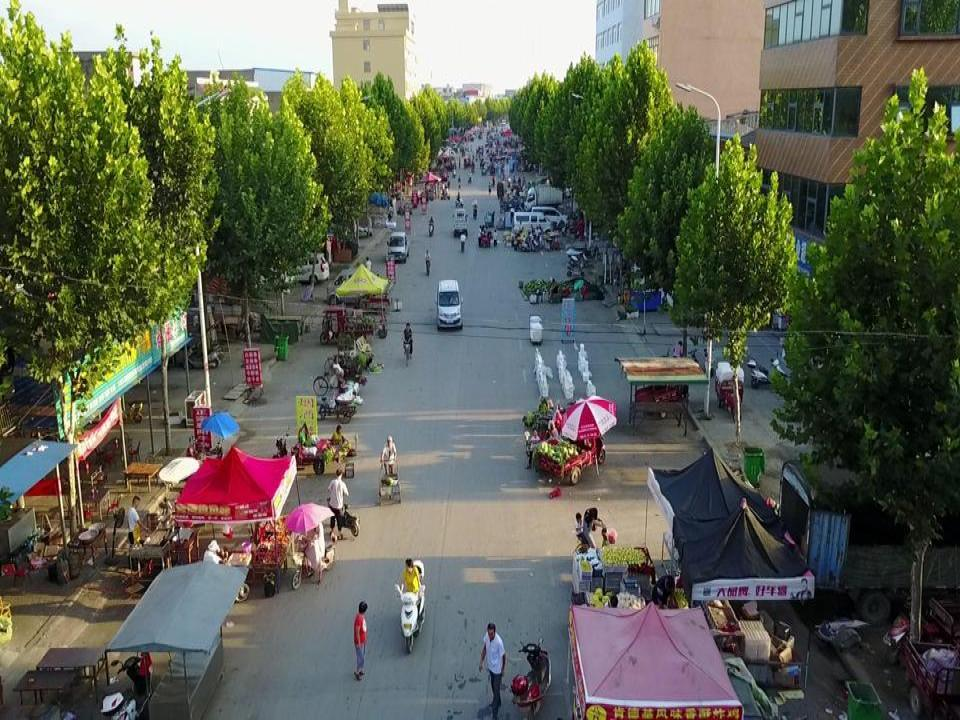car: (277, 251, 329, 284)
truck: (781, 456, 913, 628), (523, 183, 571, 214), (452, 208, 469, 236)
van: (326, 271, 386, 305), (435, 278, 461, 326), (514, 210, 552, 238), (534, 204, 571, 232), (386, 232, 408, 263)
